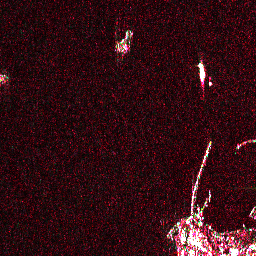ship: (196, 61, 208, 83)
